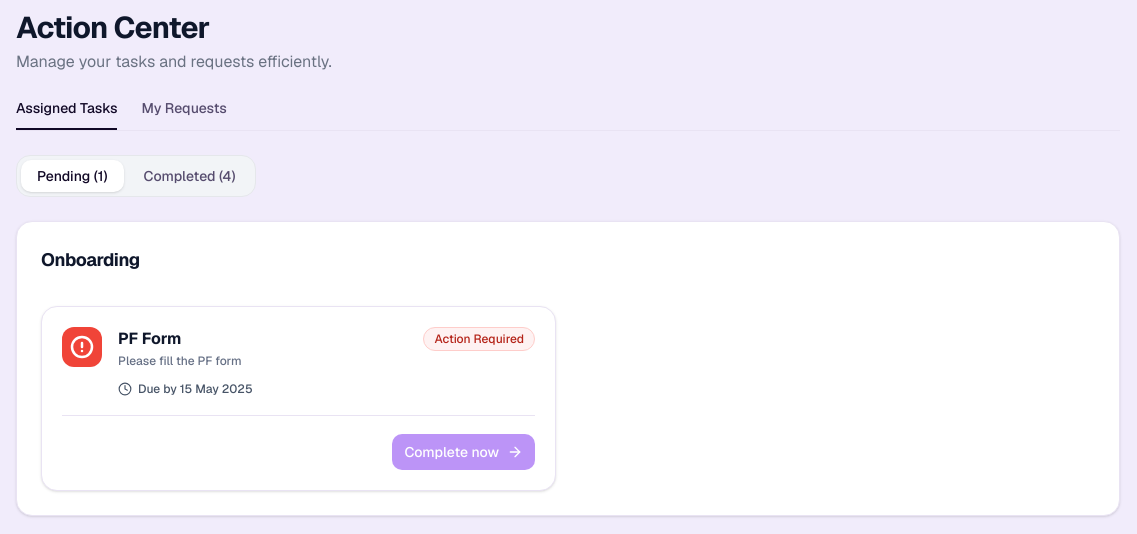
Test: ActionCenterPage – Filter Pills › updates counts when switching to My Requests tab
Click the button "My Requests" at coordinates (184, 114), box [141,98,227,130]
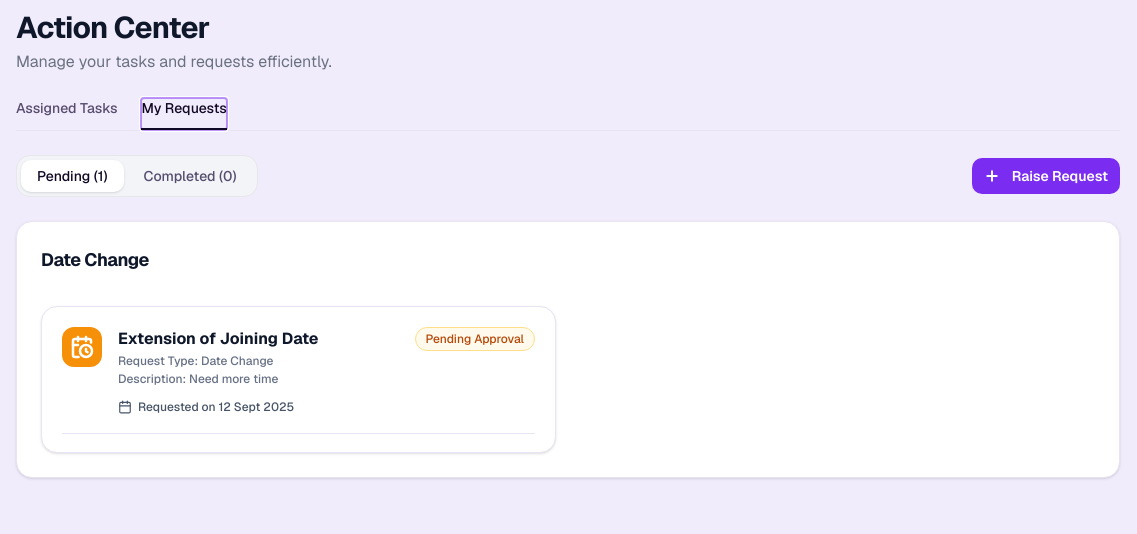
Check: the button "Pending (1)" is shown, box [21,160,124,192]
Check: the button "Completed (0)" is shown, box [128,160,253,192]
